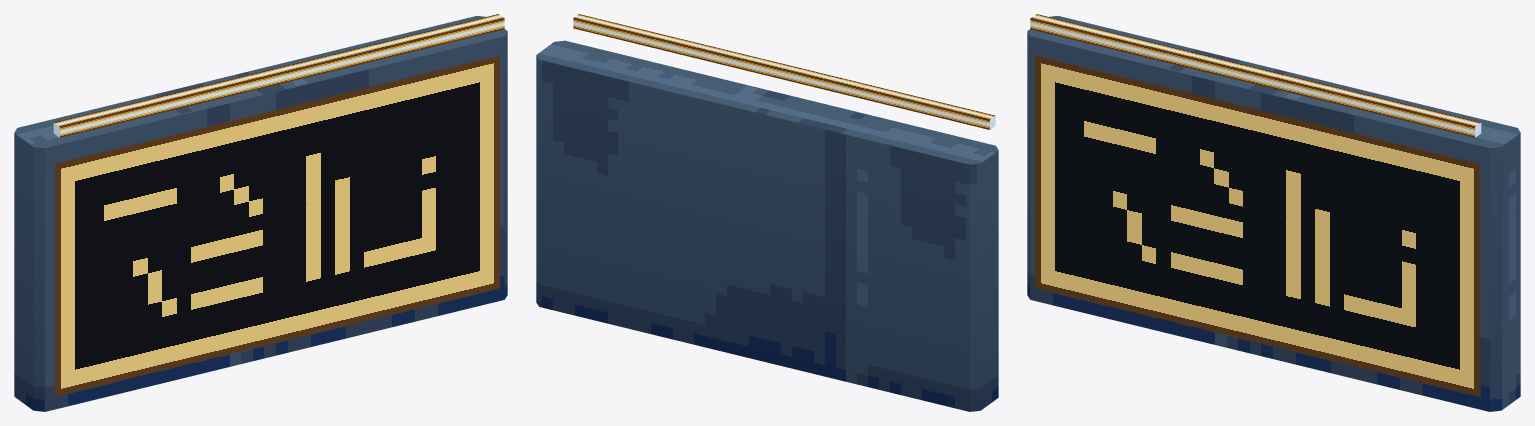
File: cysign.frame__amber.glb
The picture shows the model from 3 angles, left to right: view 1: azimuth 30°, elevation 25°; view 2: azimuth 150°, elevation 25°; view 3: azimuth 330°, elevation 25°; orthographic projection. The views are drawn at different scales.
Parts seen in each view (by area): view 1: kit_card_face, kit_box, kit_neon; view 2: kit_box, kit_neon; view 3: kit_card_face, kit_box, kit_neon.
Part boxes in pixels (bbox=[...]): kit_card_face: bbox=[55, 55, 499, 396]; kit_box: bbox=[14, 16, 507, 411]; kit_neon: bbox=[53, 14, 504, 137]; kit_box: bbox=[536, 40, 998, 411]; kit_neon: bbox=[573, 14, 995, 129]; kit_card_face: bbox=[1035, 55, 1479, 396]; kit_box: bbox=[1027, 16, 1520, 411]; kit_neon: bbox=[1030, 14, 1481, 137].
Size of the model in its own units: 2.56 by 1.49 by 0.3283.
Materials: 3 (3 with a texture image).
